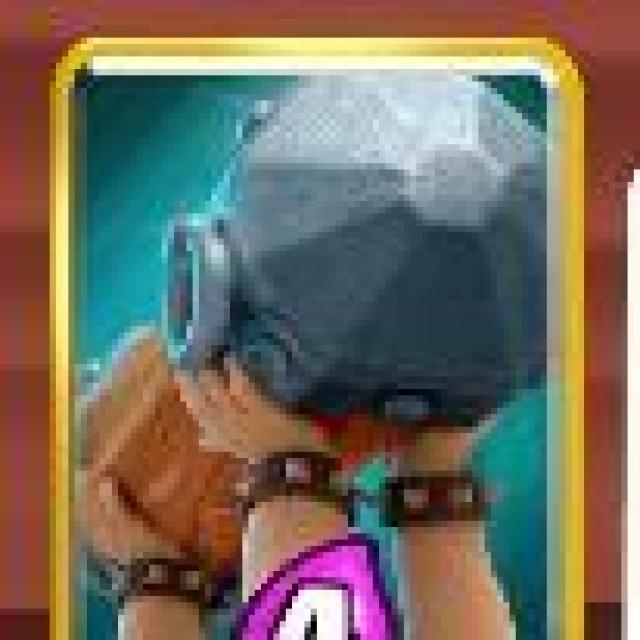Battle_Ram: (49, 35, 587, 640)
